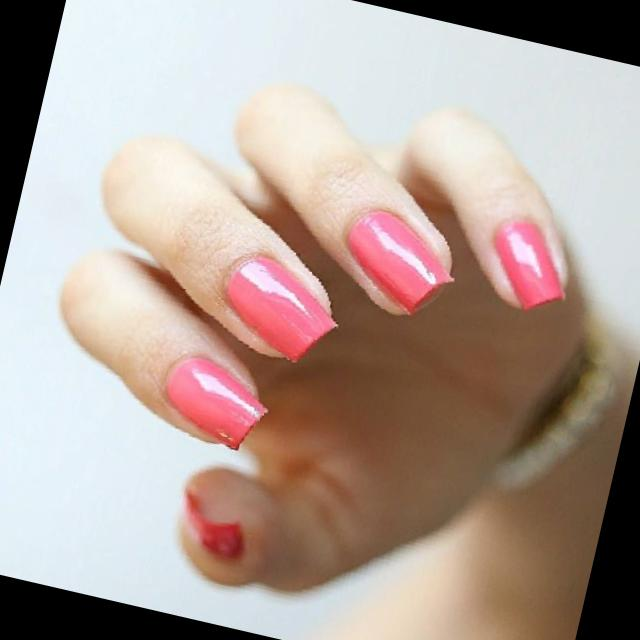Nail: (227, 255, 335, 359), (348, 209, 451, 312), (166, 355, 267, 447), (494, 220, 563, 309), (183, 490, 242, 557)
